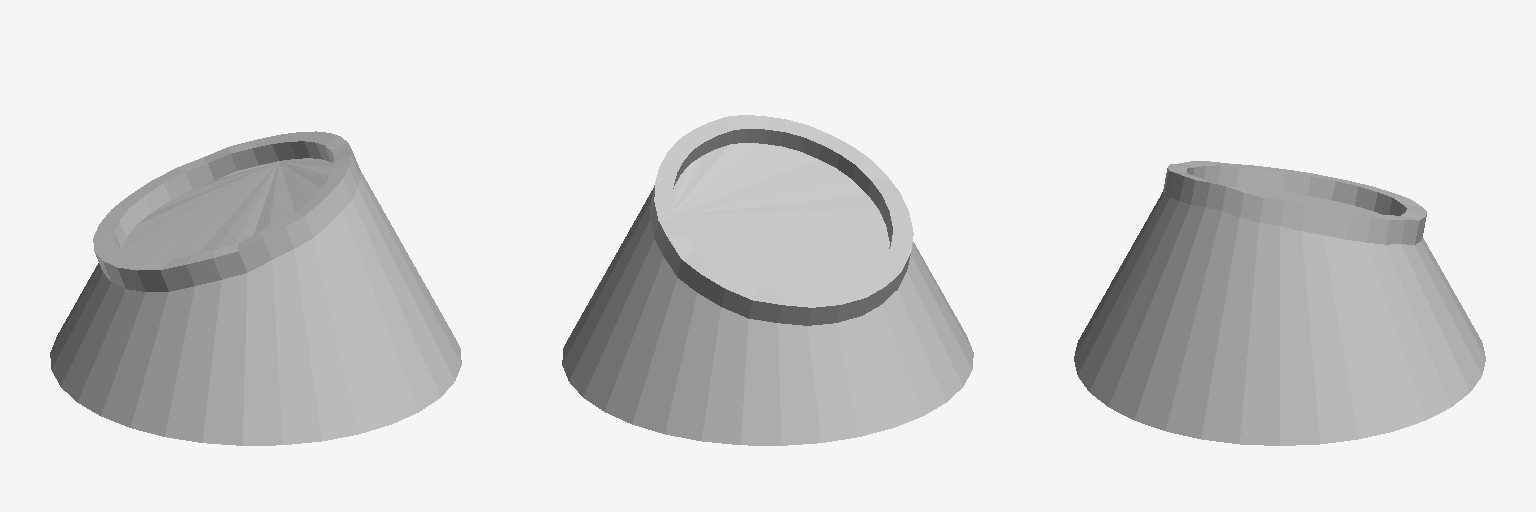
Rendered from CutExtrude.obj.
The picture shows the model from 3 angles: view 1: azimuth 30°, elevation 25°; view 2: azimuth 150°, elevation 25°; view 3: azimuth 270°, elevation 25°; orthographic projection.
Parts seen in each view (by area): view 1: Cone; view 2: Cone; view 3: Cone.
Part boxes in pixels (x1,y1,x2,y2): Cone: (50,131,461,445); Cone: (562,115,973,445); Cone: (1074,161,1485,445).
Bounding box in the file's own units: 2 × 1.1 × 2.